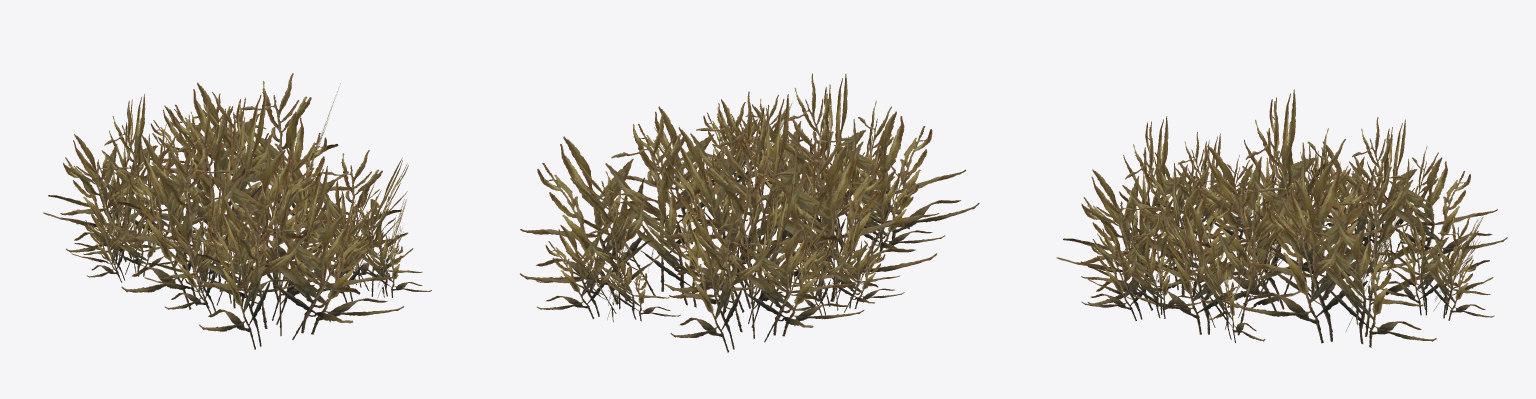
Rendered from oas_tarim_dvweed_01.glb.
The picture shows the model from 3 angles, left to right: view 1: azimuth 30°, elevation 25°; view 2: azimuth 150°, elevation 25°; view 3: azimuth 270°, elevation 25°; orthographic projection. The views are drawn at different scales.
Parts seen in each view (by area): view 1: Oas_tarim_DvWeed_01; view 2: Oas_tarim_DvWeed_01; view 3: Oas_tarim_DvWeed_01.
Part boxes in pixels (x1=…): Oas_tarim_DvWeed_01: x1=43, y1=73, x2=431, y2=349; Oas_tarim_DvWeed_01: x1=520, y1=73, x2=979, y2=352; Oas_tarim_DvWeed_01: x1=1056, y1=89, x2=1507, y2=347.
Size of the model in its own units: 8.58 by 4.8 by 9.91.
Materials: 1 (1 with a texture image).
